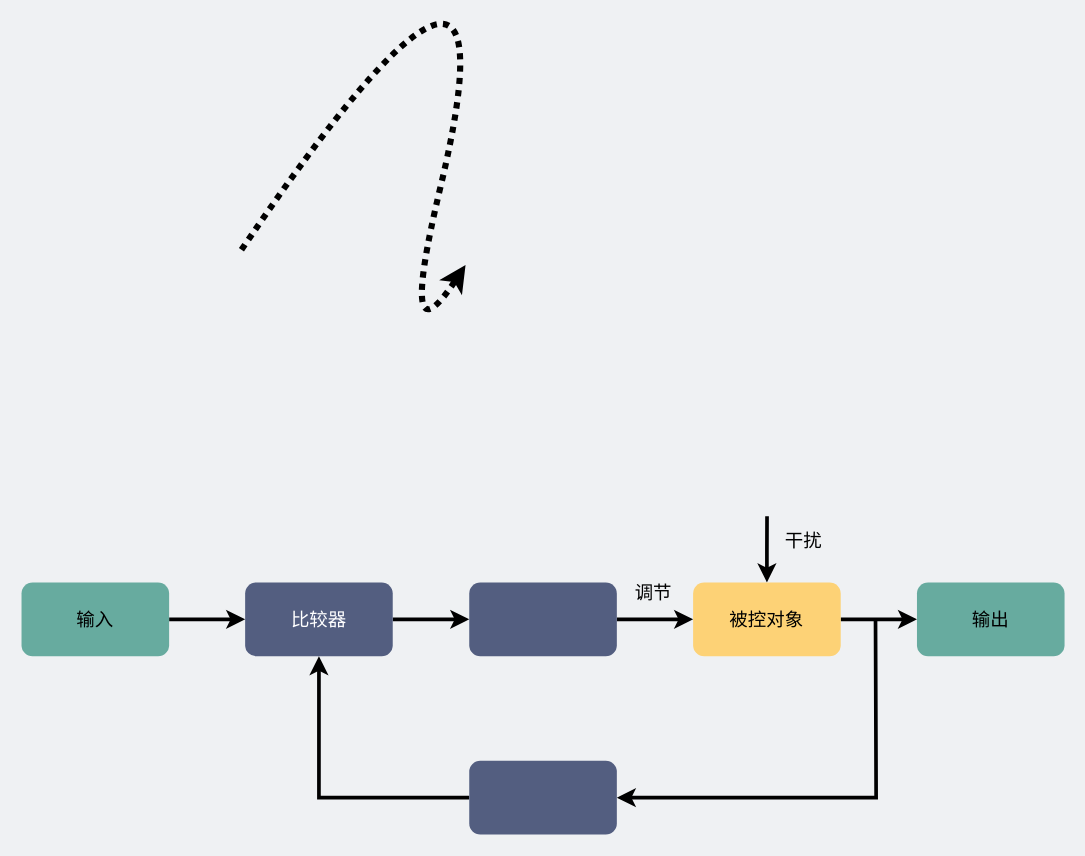
The diagram is 1085 pixels wide and 856 high, and some of its shapes have lost their labels. Here are the shapes that lost their labels. From the top down, the centre of each, then its label:
At pixel 542 619: "控制器".
At pixel 542 797: "反馈环节".
